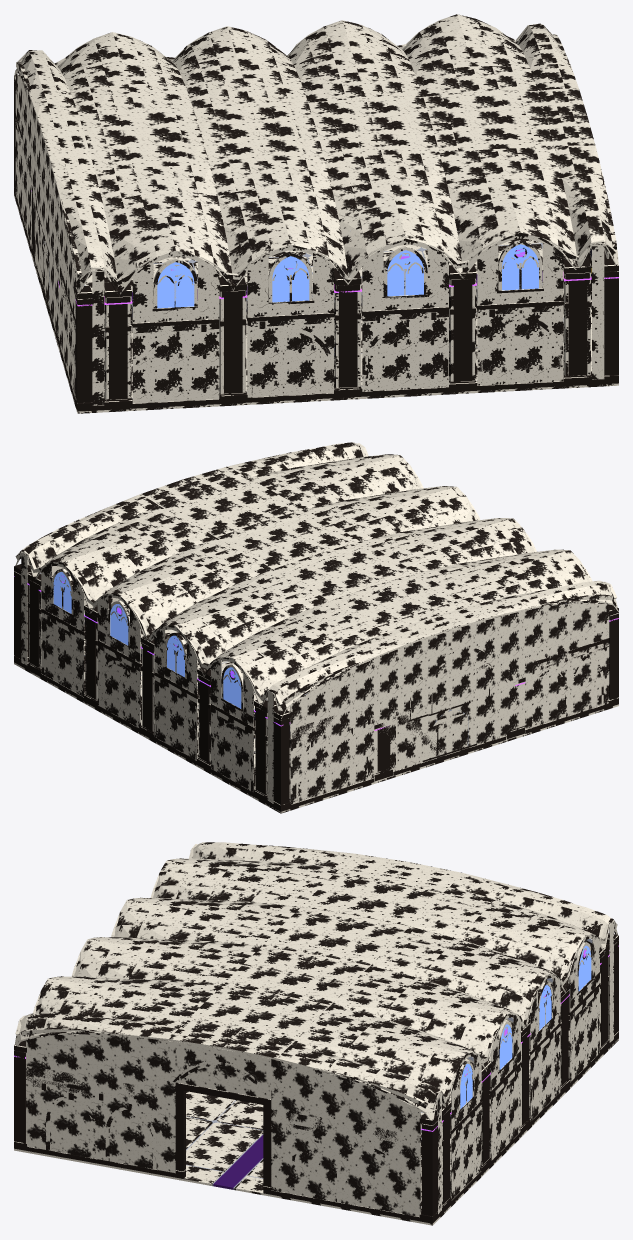
The model's file is ILHA3_03_MINING_HALL_f6fdb3.fbx.
3 views of the same model, one above another, from view 1: azimuth 30°, elevation 25°; view 2: azimuth 150°, elevation 25°; view 3: azimuth 270°, elevation 25° (orthographic). The views are drawn at different scales.
Visible parts, largest first — view 1: SG_Hall_Vault__Stone_SGHallVault, SG_Hall_Piers__Stone_SG_Castle, SG_Hall_Piers__Stone_SG_Castle_B, SG_Hall_Piers__Stone_SG_Obsidian, SG_Hall_Windows__Glass_SGHallMoon, SG_Hall_Piers__Stone_SG_Trim, SG_Hall_Piers__Stone_SGHallNiche, SG_Hall_Vault__Stone_SG_Obsidian, SG_Hall_Windows__Stone_SG_Trim, SG_Hall_Floor__Stone_SG_Obsidian, SG_Hall_Floor__Stone_SG_MarbleBlack; view 2: SG_Hall_Vault__Stone_SGHallVault, SG_Hall_Piers__Stone_SG_Castle, SG_Hall_Piers__Stone_SG_Castle_B, SG_Hall_Piers__Stone_SG_Obsidian, SG_Hall_Piers__Stone_SG_Trim, SG_Hall_Piers__Stone_SGHallNiche, SG_Hall_Windows__Glass_SGHallMoon, SG_Hall_Vault__Stone_SG_Obsidian, SG_Hall_Floor__Stone_SG_Obsidian, SG_Hall_Altar__Stone_SGHallNiche, SG_Hall_Windows__Stone_SG_Trim, SG_Hall_Throne__Stone_SG_Obsidian (+3 smaller); view 3: SG_Hall_Vault__Stone_SGHallVault, SG_Hall_Piers__Stone_SG_Castle, SG_Hall_Piers__Stone_SG_Castle_B, SG_Hall_Piers__Stone_SG_Obsidian, SG_Hall_Piers__Stone_SG_Trim, SG_Hall_Floor__Stone_SG_MarbleBlack, SG_Hall_Piers__Stone_SGHallNiche, SG_Hall_Floor__Stone_SG_Obsidian, SG_Hall_Vault__Stone_SG_Obsidian, SG_Hall_Windows__Glass_SGHallMoon, SG_Hall_Windows__Stone_SG_Trim, SG_Hall_Floor__Cloth_SG_Purple.
Boxes of the visible parts, <box> form: SG_Hall_Vault__Stone_SGHallVault: <box>14,14,618,298</box>; SG_Hall_Piers__Stone_SG_Castle: <box>14,73,618,405</box>; SG_Hall_Piers__Stone_SG_Castle_B: <box>127,243,568,398</box>; SG_Hall_Piers__Stone_SG_Obsidian: <box>14,114,618,411</box>; SG_Hall_Windows__Glass_SGHallMoon: <box>157,244,538,308</box>; SG_Hall_Piers__Stone_SG_Trim: <box>14,75,618,401</box>; SG_Hall_Piers__Stone_SGHallNiche: <box>15,102,610,323</box>; SG_Hall_Vault__Stone_SG_Obsidian: <box>16,21,616,286</box>; SG_Hall_Windows__Stone_SG_Trim: <box>152,239,543,311</box>; SG_Hall_Floor__Stone_SG_Obsidian: <box>14,194,618,413</box>; SG_Hall_Floor__Stone_SG_MarbleBlack: <box>85,238,563,397</box>; SG_Hall_Vault__Stone_SGHallVault: <box>15,442,618,718</box>; SG_Hall_Piers__Stone_SG_Castle: <box>21,552,618,804</box>; SG_Hall_Piers__Stone_SG_Castle_B: <box>14,560,273,803</box>; SG_Hall_Piers__Stone_SG_Obsidian: <box>14,575,618,811</box>; SG_Hall_Piers__Stone_SG_Trim: <box>14,564,618,802</box>; SG_Hall_Piers__Stone_SGHallNiche: <box>41,570,609,738</box>; SG_Hall_Windows__Glass_SGHallMoon: <box>53,572,241,708</box>; SG_Hall_Vault__Stone_SG_Obsidian: <box>15,443,617,706</box>; SG_Hall_Floor__Stone_SG_Obsidian: <box>14,629,618,813</box>; SG_Hall_Altar__Stone_SGHallNiche: <box>396,653,492,770</box>; SG_Hall_Windows__Stone_SG_Trim: <box>51,568,243,711</box>; SG_Hall_Throne__Stone_SG_Obsidian: <box>410,708,489,770</box>; SG_Hall_Vault__Stone_SGHallVault: <box>14,842,618,1123</box>; SG_Hall_Piers__Stone_SG_Castle: <box>14,936,618,1213</box>; SG_Hall_Piers__Stone_SG_Castle_B: <box>271,921,613,1216</box>; SG_Hall_Piers__Stone_SG_Obsidian: <box>14,975,618,1223</box>; SG_Hall_Piers__Stone_SG_Trim: <box>14,933,618,1206</box>; SG_Hall_Floor__Stone_SG_MarbleBlack: <box>186,1035,530,1206</box>; SG_Hall_Piers__Stone_SGHallNiche: <box>26,972,599,1146</box>; SG_Hall_Floor__Stone_SG_Obsidian: <box>14,1019,618,1225</box>; SG_Hall_Vault__Stone_SG_Obsidian: <box>15,844,617,1109</box>; SG_Hall_Windows__Glass_SGHallMoon: <box>460,945,591,1108</box>; SG_Hall_Windows__Stone_SG_Trim: <box>459,942,593,1111</box>; SG_Hall_Floor__Cloth_SG_Purple: <box>213,1135,263,1189</box>.
Bounding box in the file's own units: 114 × 28.65 × 112.
9 materials, 1 textured.
